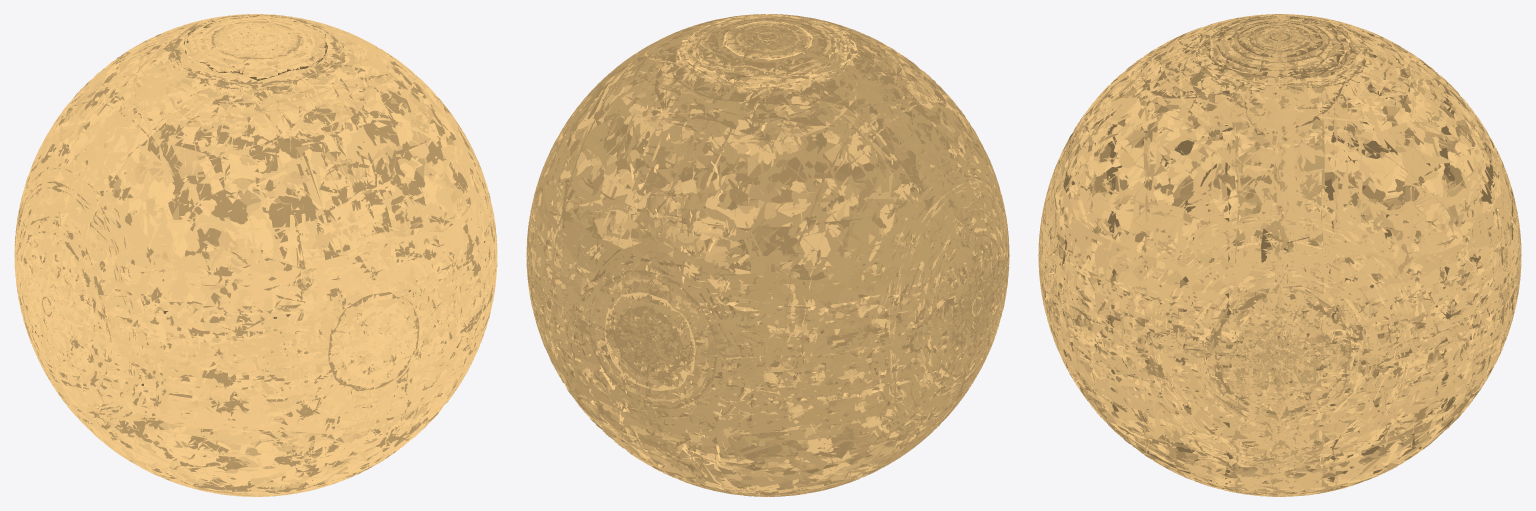
3 renders of one model, left to right at view 1: azimuth 30°, elevation 25°; view 2: azimuth 150°, elevation 25°; view 3: azimuth 270°, elevation 25°, orthographic.
Parts seen in each view (by area): view 1: 19-19-equipment; view 2: 19-19-equipment; view 3: 19-19-equipment.
Part boxes in pixels (box(x1,y1,x2,y2)): 19-19-equipment: box(14, 14, 497, 496); 19-19-equipment: box(526, 14, 1009, 496); 19-19-equipment: box(1038, 14, 1521, 496).
Size of the model in its own units: 2 by 2 by 2.
